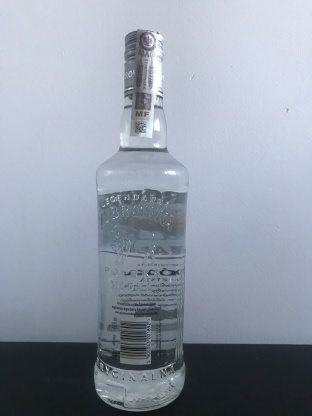nakretka: (120, 25, 167, 101)
